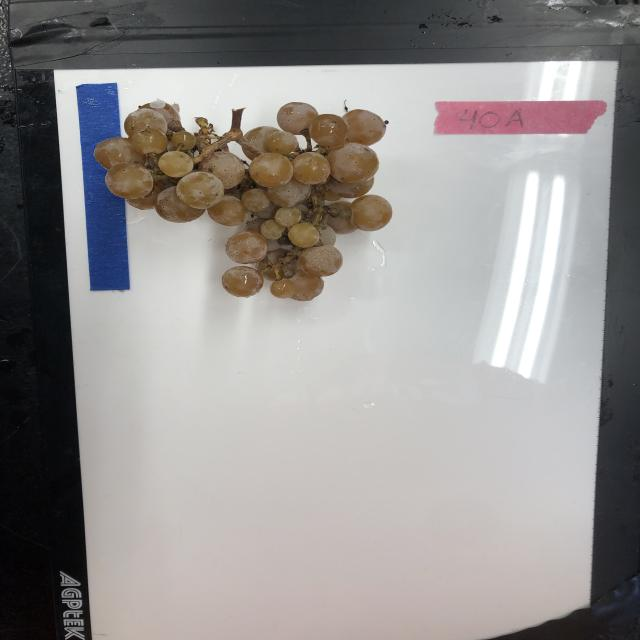grape_cluster: (97, 97, 396, 306)
index: (433, 97, 608, 135)
measure_label: (77, 81, 131, 294)
